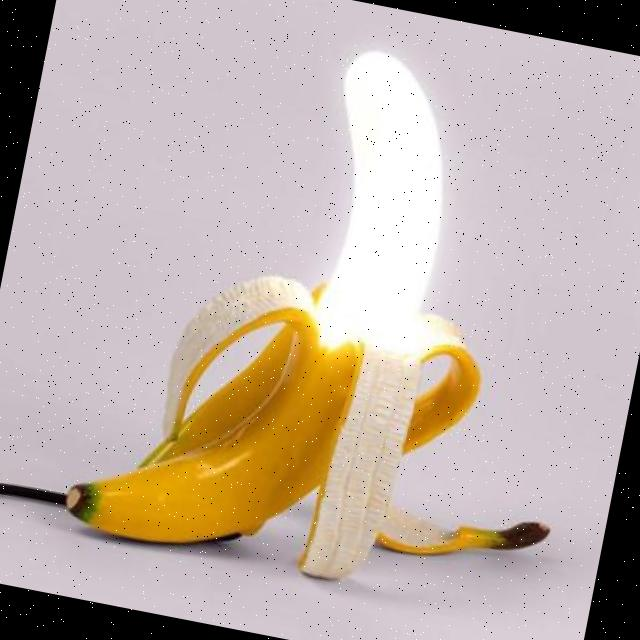banana-peel: (59, 5, 634, 621)
